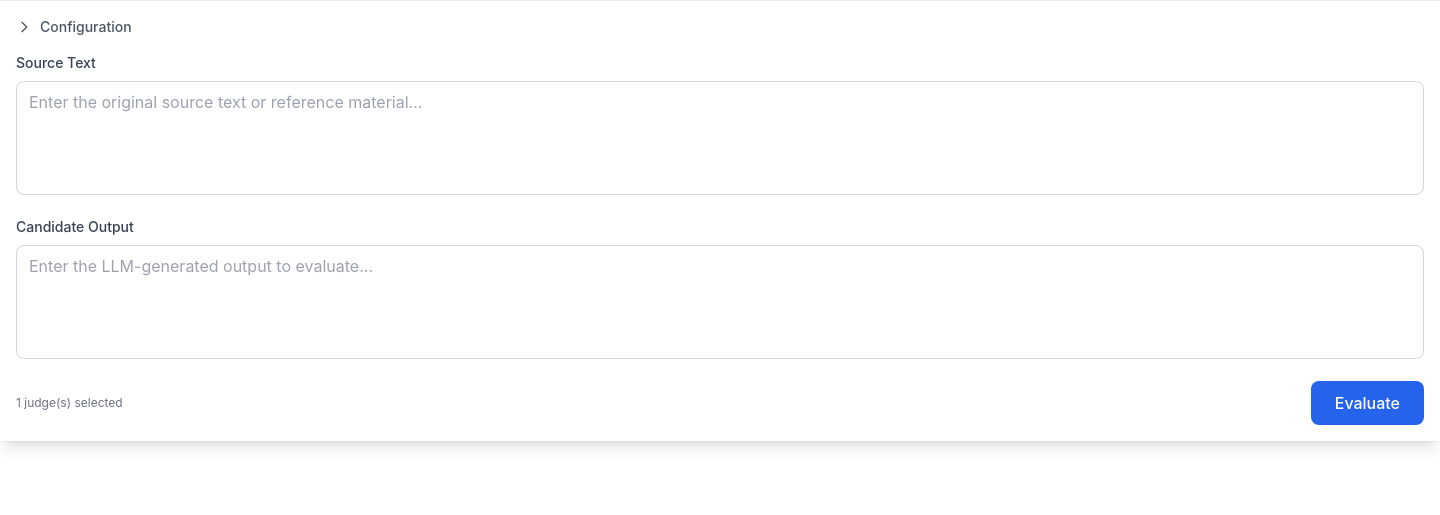
Test: ChatInputForm › should validate required fields
The width and height of the screenshot is (1440, 515).
Click the button "Evaluate" at (1367, 403), box [1311,381,1424,425]
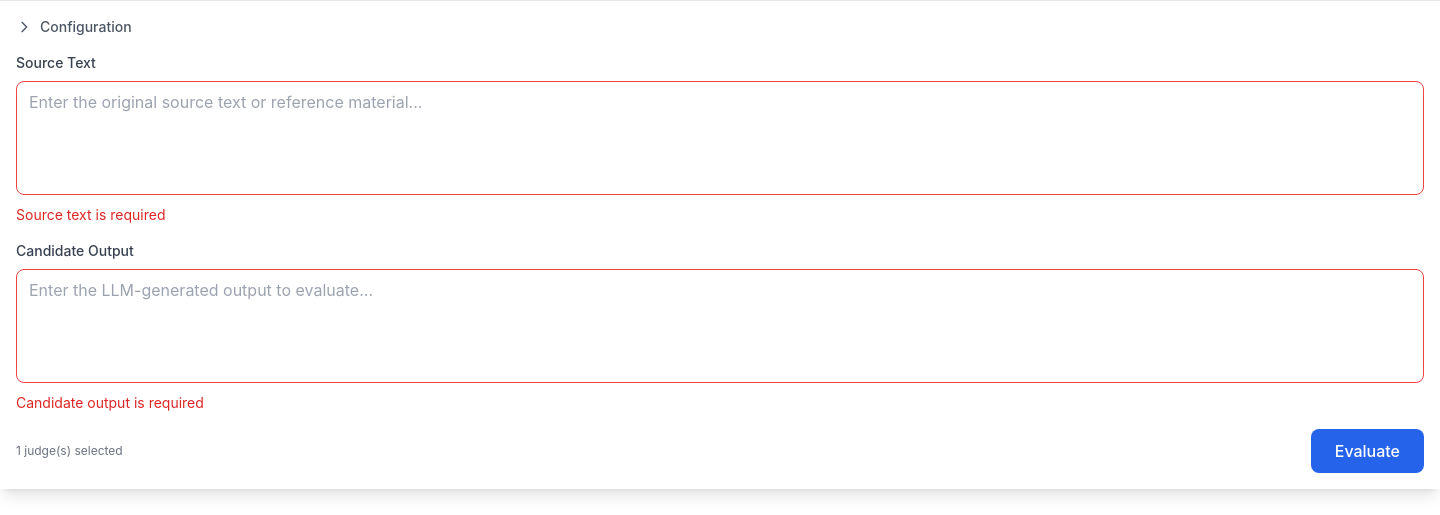
Check: the text "Source text is required" is shown, box [16,206,166,223]
Check: the text "Candidate output is required" is shown, box [16,394,204,411]
